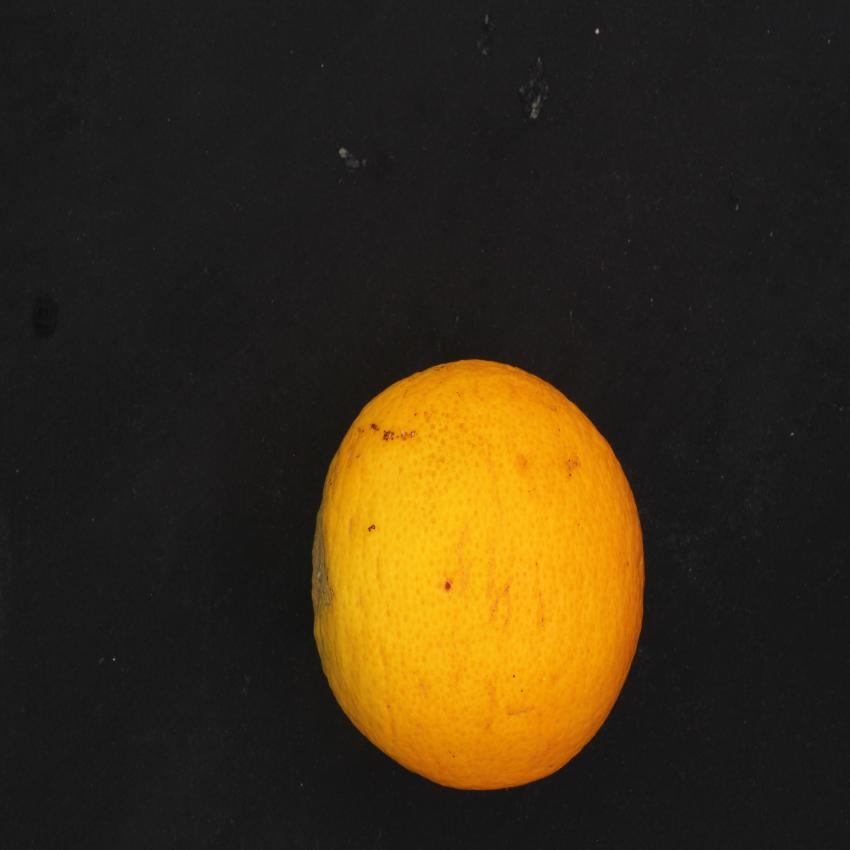Buen estado: (303, 352, 657, 799)
